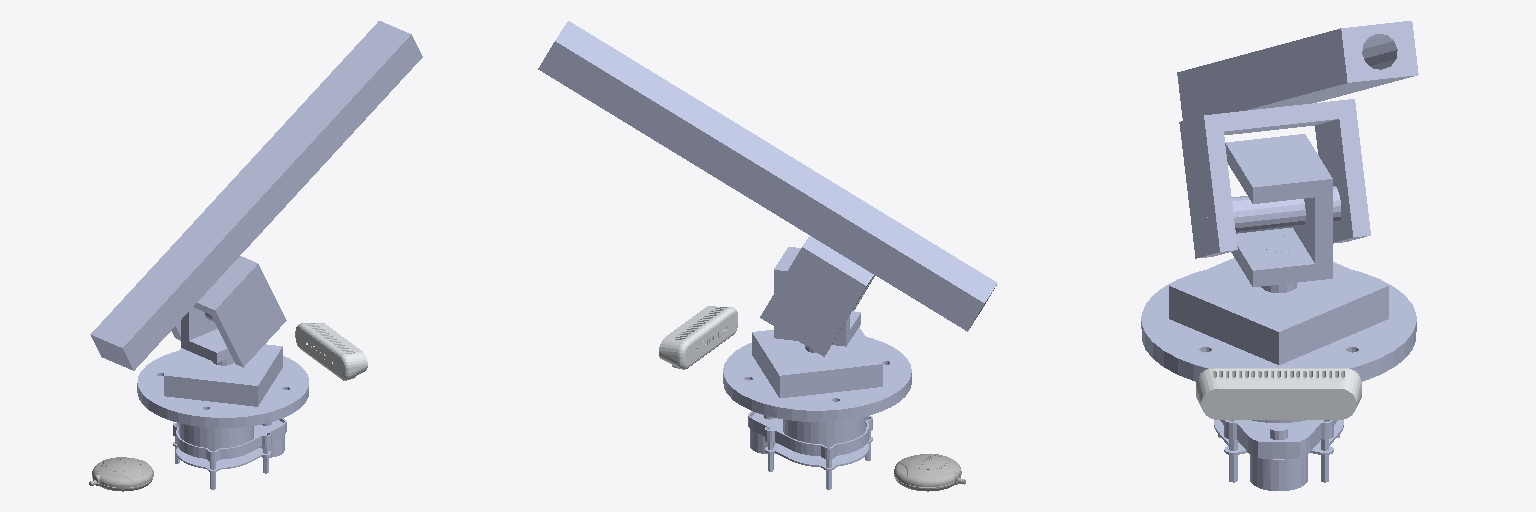
robot.urdf — Omni:
<?xml version="1.0" encoding="utf-8"?>
<!-- This URDF was automatically created by SolidWorks to URDF Exporter! Originally created by [author] ([email redacted]) 
     Commit Version: 1.6.0-1-g15f4949  Build Version: 1.6.7594.29634
     For more information, please see http://wiki.ros.org/sw_urdf_exporter -->
<robot
  name="Omni">
  <link
    name="base_link">
    <inertial>
      <origin
        xyz="0.00087394070526145 -1.553490669437E-11 0.0456311332625339"
        rpy="0 0 0" />
      <mass
        value="0.629381616423821" />
      <inertia
        ixx="0.00214425027797715"
        ixy="5.52594737907689E-11"
        ixz="-1.88262772252783E-05"
        iyy="0.00227251927301559"
        iyz="-4.0554460663586E-15"
        izz="0.00424547239869687" />
    </inertial>
    <visual>
      <origin
        xyz="0 0 0"
        rpy="0 0 0" />
      <geometry>
        <mesh
          filename="package://Omni/meshes/base_link.STL" />
      </geometry>
      <material
        name="">
        <color
          rgba="0.752941176470588 0.752941176470588 0.752941176470588 1" />
      </material>
    </visual>
    <collision>
      <origin
        xyz="0 0 0"
        rpy="0 0 0" />
      <geometry>
        <mesh
          filename="package://Omni/meshes/base_link.STL" />
      </geometry>
    </collision>
  </link>
  <link
    name="link_r_f">
    <inertial>
      <origin
        xyz="2.22044604925031E-16 6.93889390390723E-17 0.00799999999999994"
        rpy="0 0 0" />
      <mass
        value="0.0378207576868009" />
      <inertia
        ixx="2.85049643711783E-06"
        ixy="-6.05011130478897E-22"
        ixz="1.27054942088145E-21"
        iyy="2.85049643711783E-06"
        iyz="3.21670751267857E-22"
        izz="5.19808205118168E-06" />
    </inertial>
    <visual>
      <origin
        xyz="0 0 0"
        rpy="0 0 0" />
      <geometry>
        <mesh
          filename="package://Omni/meshes/link_r_f.STL" />
      </geometry>
      <material
        name="">
        <color
          rgba="0.752941176470588 0.752941176470588 0.752941176470588 1" />
      </material>
    </visual>
    <collision>
      <origin
        xyz="0 0 0"
        rpy="0 0 0" />
      <geometry>
        <mesh
          filename="package://Omni/meshes/link_r_f.STL" />
      </geometry>
    </collision>
  </link>
  <joint
    name="joint_r_f"
    type="continuous">
    <origin
      xyz="0.10695 -0.10695 0.0145"
      rpy="-1.5708 0 0.7854" />
    <parent
      link="base_link" />
    <child
      link="link_r_f" />
    <axis
      xyz="0 0 1" />
    <dynamics
      damping="0.1"
      friction="0.1" />
  </joint>
  <link
    name="link_l_f">
    <inertial>
      <origin
        xyz="-5.55111512312578E-17 -1.38777878078145E-16 0.0079999999999999"
        rpy="0 0 0" />
      <mass
        value="0.0378207576868008" />
      <inertia
        ixx="2.85049643711785E-06"
        ixy="1.9828280191704E-22"
        ixz="1.05879118406788E-22"
        iyy="2.85049643711784E-06"
        iyz="-3.0247188040906E-22"
        izz="5.19808205118168E-06" />
    </inertial>
    <visual>
      <origin
        xyz="0 0 0"
        rpy="0 0 0" />
      <geometry>
        <mesh
          filename="package://Omni/meshes/link_l_f.STL" />
      </geometry>
      <material
        name="">
        <color
          rgba="0.752941176470588 0.752941176470588 0.752941176470588 1" />
      </material>
    </visual>
    <collision>
      <origin
        xyz="0 0 0"
        rpy="0 0 0" />
      <geometry>
        <mesh
          filename="package://Omni/meshes/link_l_f.STL" />
      </geometry>
    </collision>
  </link>
  <joint
    name="joint_l_f"
    type="continuous">
    <origin
      xyz="0.10695 0.10695 0.0145"
      rpy="-1.5708 0 2.3562" />
    <parent
      link="base_link" />
    <child
      link="link_l_f" />
    <axis
      xyz="0 0 1" />
    <dynamics
      damping="0.1"
      friction="0.1" />
  </joint>
  <link
    name="link_r_b">
    <inertial>
      <origin
        xyz="-8.32667268468867E-17 4.16333634234434E-17 0.00800000000000006"
        rpy="0 0 0" />
      <mass
        value="0.0378207576868009" />
      <inertia
        ixx="2.85049643711785E-06"
        ixy="3.36876046500654E-21"
        ixz="9.52912065661088E-22"
        iyy="2.85049643711785E-06"
        iyz="-4.64923506358761E-22"
        izz="5.1980820511817E-06" />
    </inertial>
    <visual>
      <origin
        xyz="0 0 0"
        rpy="0 0 0" />
      <geometry>
        <mesh
          filename="package://Omni/meshes/link_r_b.STL" />
      </geometry>
      <material
        name="">
        <color
          rgba="0.752941176470588 0.752941176470588 0.752941176470588 1" />
      </material>
    </visual>
    <collision>
      <origin
        xyz="0 0 0"
        rpy="0 0 0" />
      <geometry>
        <mesh
          filename="package://Omni/meshes/link_r_b.STL" />
      </geometry>
    </collision>
  </link>
  <joint
    name="joint_r_b"
    type="continuous">
    <origin
      xyz="-0.10694543648263 -0.10694543648263 0.0145000000000001"
      rpy="-1.5707963267949 0 -0.785398163397453" />
    <parent
      link="base_link" />
    <child
      link="link_r_b" />
    <axis
      xyz="0 0 1" />
    <dynamics
      damping="0.1"
      friction="0.1" />
  </joint>
  <link
    name="link_l_b">
    <inertial>
      <origin
        xyz="0 -1.80411241501588E-16 0.00800000000000003"
        rpy="0 0 0" />
      <mass
        value="0.0378207576868009" />
      <inertia
        ixx="2.85049643711786E-06"
        ixy="-6.10085181530552E-21"
        ixz="-9.52912065661088E-22"
        iyy="2.85049643711785E-06"
        iyz="-8.26224444492209E-22"
        izz="5.19808205118169E-06" />
    </inertial>
    <visual>
      <origin
        xyz="0 0 0"
        rpy="0 0 0" />
      <geometry>
        <mesh
          filename="package://Omni/meshes/link_l_b.STL" />
      </geometry>
      <material
        name="">
        <color
          rgba="0.752941176470588 0.752941176470588 0.752941176470588 1" />
      </material>
    </visual>
    <collision>
      <origin
        xyz="0 0 0"
        rpy="0 0 0" />
      <geometry>
        <mesh
          filename="package://Omni/meshes/link_l_b.STL" />
      </geometry>
    </collision>
  </link>
  <joint
    name="joint_l_b"
    type="continuous">
    <origin
      xyz="-0.10695 0.10695 0.0145"
      rpy="-1.5708 0 -2.3562" />
    <parent
      link="base_link" />
    <child
      link="link_l_b" />
    <axis
      xyz="0 0 1" />
    <dynamics
      damping="0.1"
      friction="0.1" />
  </joint>
  <link
    name="link_lidar">
    <inertial>
      <origin
        xyz="0.00829409957033961 0 -0.021298857777209"
        rpy="0 0 0" />
      <mass
        value="0.146695752131392" />
      <inertia
        ixx="6.22721120792819E-05"
        ixy="-1.53022570849076E-20"
        ixz="1.88658076337422E-05"
        iyy="0.000109673997590948"
        iyz="1.13544428735481E-20"
        izz="0.000125682524275729" />
    </inertial>
    <visual>
      <origin
        xyz="0 0 0"
        rpy="0 0 0" />
      <geometry>
        <mesh
          filename="package://Omni/meshes/link_lidar.STL" />
      </geometry>
      <material
        name="">
        <color
          rgba="0.792156862745098 0.819607843137255 0.933333333333333 1" />
      </material>
    </visual>
    <collision>
      <origin
        xyz="0 0 0"
        rpy="0 0 0" />
      <geometry>
        <mesh
          filename="package://Omni/meshes/link_lidar.STL" />
      </geometry>
    </collision>
  </link>
  <joint
    name="joint_lidar"
    type="fixed">
    <origin
      xyz="-0.0065 0 0.099"
      rpy="0 0 0" />
    <parent
      link="base_link" />
    <child
      link="link_lidar" />
    <axis
      xyz="0 0 0" />
    <dynamics
      damping="0.1"
      friction="0.1" />
  </joint>
  <link
    name="link_cam">
    <inertial>
      <origin
        xyz="-0.011444022515556 -0.00170501551405064 -0.000136099826490349"
        rpy="0 0 0" />
      <mass
        value="0.107910296079292" />
      <inertia
        ixx="7.12549049053699E-05"
        ixy="-1.78365687781969E-08"
        ixz="4.92930994375656E-08"
        iyy="7.71001342380399E-06"
        iyz="2.21028647675028E-10"
        izz="7.02566214516623E-05" />
    </inertial>
    <visual>
      <origin
        xyz="0 0 0"
        rpy="0 0 0" />
      <geometry>
        <mesh
          filename="package://Omni/meshes/link_cam.STL" />
      </geometry>
      <material
        name="">
        <color
          rgba="0.898039215686275 0.917647058823529 0.929411764705882 1" />
      </material>
    </visual>
    <collision>
      <origin
        xyz="0 0 0"
        rpy="0 0 0" />
      <geometry>
        <mesh
          filename="package://Omni/meshes/link_cam.STL" />
      </geometry>
    </collision>
  </link>
  <joint
    name="joint_cam"
    type="fixed">
    <origin
      xyz="0.12 0.0017162 0.129"
      rpy="0 0 0" />
    <parent
      link="base_link" />
    <child
      link="link_cam" />
    <axis
      xyz="0 0 0" />
    <dynamics
      damping="0.1"
      friction="0.1" />
  </joint>
  <link
    name="link_gps">
    <inertial>
      <origin
        xyz="-0.000234344503673413 -0.000480179325974467 -0.00809401190680181"
        rpy="0 0 0" />
      <mass
        value="0.0273352261246604" />
      <inertia
        ixx="3.55571588602812E-06"
        ixy="-1.49360731636854E-08"
        ixz="1.01926750419812E-08"
        iyy="3.68244658212687E-06"
        iyz="-5.55452534168042E-10"
        izz="7.06140819524659E-06" />
    </inertial>
    <visual>
      <origin
        xyz="0 0 0"
        rpy="0 0 0" />
      <geometry>
        <mesh
          filename="package://Omni/meshes/link_gps.STL" />
      </geometry>
      <material
        name="">
        <color
          rgba="0.752941176470588 0.752941176470588 0.752941176470588 1" />
      </material>
    </visual>
    <collision>
      <origin
        xyz="0 0 0"
        rpy="0 0 0" />
      <geometry>
        <mesh
          filename="package://Omni/meshes/link_gps.STL" />
      </geometry>
    </collision>
  </link>
  <joint
    name="joint_gps"
    type="fixed">
    <origin
      xyz="-0.10128 0.00012301 0.068139"
      rpy="0 0 0" />
    <parent
      link="base_link" />
    <child
      link="link_gps" />
    <axis
      xyz="0 0 0" />
    <dynamics
      damping="0.1"
      friction="0.1" />
  </joint>
  <link
    name="link_base_sung">
    <inertial>
      <origin
        xyz="-5.55111512312578E-17 2.77555756156289E-17 0.00251696154569289"
        rpy="0 0 0" />
      <mass
        value="0.327529187998142" />
      <inertia
        ixx="0.00036497029704894"
        ixy="2.63663820251208E-20"
        ixz="-1.01257936454411E-19"
        iyy="0.00036497029704894"
        iyz="-1.16366910317687E-20"
        izz="0.0006664691117042" />
    </inertial>
    <visual>
      <origin
        xyz="0 0 0"
        rpy="0 0 0" />
      <geometry>
        <mesh
          filename="package://Omni/meshes/link_base_sung.STL" />
      </geometry>
      <material
        name="">
        <color
          rgba="0.792156862745098 0.819607843137255 0.933333333333333 1" />
      </material>
    </visual>
    <collision>
      <origin
        xyz="0 0 0"
        rpy="0 0 0" />
      <geometry>
        <mesh
          filename="package://Omni/meshes/link_base_sung.STL" />
      </geometry>
    </collision>
  </link>
  <joint
    name="joint_base_sung"
    type="fixed">
    <origin
      xyz="0 0 0.124"
      rpy="0 0 0" />
    <parent
      link="base_link" />
    <child
      link="link_base_sung" />
    <axis
      xyz="0 0 0" />
    <dynamics
      damping="0.1"
      friction="0.1" />
  </joint>
  <link
    name="link_1">
    <inertial>
      <origin
        xyz="-0.000935849685649387 0.0035887933254565 0.0207980038126824"
        rpy="0 0 0" />
      <mass
        value="0.0984203522483337" />
      <inertia
        ixx="6.58482471078486E-05"
        ixy="1.56489131057454E-06"
        ixz="-7.35014624325114E-08"
        iyy="6.02552837375316E-05"
        iyz="2.81863168662668E-07"
        izz="5.42301344406042E-05" />
    </inertial>
    <visual>
      <origin
        xyz="0 0 0"
        rpy="0 0 0" />
      <geometry>
        <mesh
          filename="package://Omni/meshes/link_1.STL" />
      </geometry>
      <material
        name="">
        <color
          rgba="0.792156862745098 0.819607843137255 0.933333333333333 1" />
      </material>
    </visual>
    <collision>
      <origin
        xyz="0 0 0"
        rpy="0 0 0" />
      <geometry>
        <mesh
          filename="package://Omni/meshes/link_1.STL" />
      </geometry>
    </collision>
  </link>
  <joint
    name="joint_1"
    type="continuous">
    <origin
      xyz="0 0 0.045"
      rpy="0 0 0" />
    <parent
      link="link_base_sung" />
    <child
      link="link_1" />
    <axis
      xyz="0 0 1" />
    <dynamics
      damping="0.1"
      friction="0.1" />
  </joint>
  <link
    name="link_2">
    <inertial>
      <origin
        xyz="0.0181554974354643 0.0780542515153022 0.0425"
        rpy="0 0 0" />
      <mass
        value="0.539884961621024" />
      <inertia
        ixx="0.00190754197212755"
        ixy="-0.00249134447781831"
        ixz="3.25260651745651E-19"
        iyy="0.00468626996426833"
        iyz="2.48246305905315E-19"
        izz="0.00620464220748103" />
    </inertial>
    <visual>
      <origin
        xyz="0 0 0"
        rpy="0 0 0" />
      <geometry>
        <mesh
          filename="package://Omni/meshes/link_2.STL" />
      </geometry>
      <material
        name="">
        <color
          rgba="0.792156862745098 0.819607843137255 0.933333333333333 1" />
      </material>
    </visual>
    <collision>
      <origin
        xyz="0 0 0"
        rpy="0 0 0" />
      <geometry>
        <mesh
          filename="package://Omni/meshes/link_2.STL" />
      </geometry>
    </collision>
  </link>
  <joint
    name="joint_2"
    type="continuous">
    <origin
      xyz="-0.010724 0.041125 0.02"
      rpy="1.5708 0 0.25509" />
    <parent
      link="link_1" />
    <child
      link="link_2" />
    <axis
      xyz="0 0 1" />
    <dynamics
      damping="0.1"
      friction="0.1" />
  </joint>
</robot>

--- Facts derived from the render (not from the file) ---
Views: 3 orthographic renders of the robot side by side, from view 1: azimuth 30°, elevation 25°; view 2: azimuth 150°, elevation 25°; view 3: azimuth 270°, elevation 25°.
Robot: Omni — 11 links, 10 joints (6 continuous, 4 fixed); root link base_link; default pose: all joints at 0.
Visible links, largest first — view 1: link_2, link_base_sung, link_lidar, link_cam, link_1, link_gps; view 2: link_2, link_base_sung, link_lidar, link_cam, link_gps, link_1; view 3: link_2, link_base_sung, link_1, link_cam, link_lidar.
Link boxes in pixels (box(x1,y1,x2,y2)): link_2: box(90, 21, 422, 370); link_base_sung: box(137, 331, 308, 427); link_lidar: box(173, 418, 286, 489); link_cam: box(295, 323, 367, 380); link_1: box(181, 307, 265, 362); link_gps: box(89, 457, 153, 491); link_2: box(538, 21, 997, 356); link_base_sung: box(723, 327, 911, 421); link_lidar: box(748, 411, 872, 489); link_cam: box(659, 306, 737, 369); link_gps: box(894, 454, 965, 491); link_1: box(774, 247, 860, 346); link_2: box(1177, 21, 1418, 258); link_base_sung: box(1141, 236, 1416, 381); link_1: box(1199, 134, 1340, 286); link_cam: box(1196, 368, 1361, 419); link_lidar: box(1214, 420, 1343, 490).
Bounding box of the posed robot: 0.3661 × 0.1511 × 0.356 m (x, y, z).
Meshes: 11 distinct files referenced, 6 mesh visuals loaded (6 binary STL); not drawn: 5 (reference not matched to a file when rendering).
